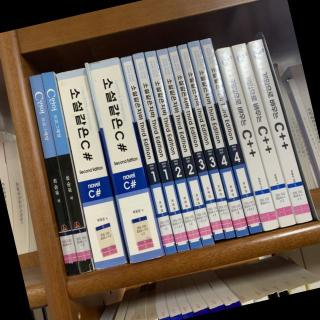book-spine: (85, 57, 164, 263), (53, 67, 127, 269), (186, 39, 249, 237), (246, 39, 313, 224), (199, 38, 262, 233), (214, 45, 280, 231), (230, 41, 296, 227), (143, 50, 202, 249), (156, 48, 215, 246), (177, 44, 236, 239), (166, 46, 225, 240), (132, 52, 189, 252), (120, 56, 177, 255), (39, 71, 94, 273), (28, 74, 80, 277)
